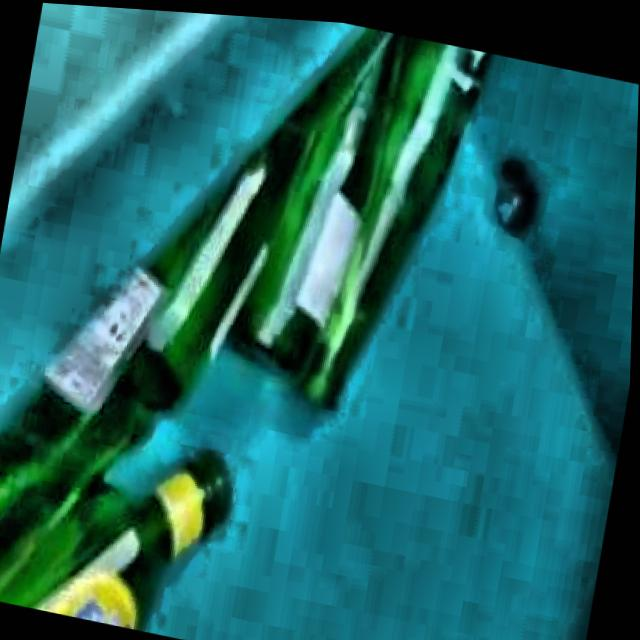glass: (0, 23, 491, 628)
